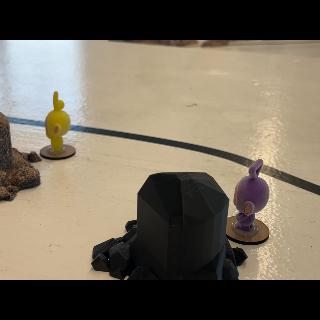teletubby: (234, 159, 269, 232), (45, 92, 70, 152)
